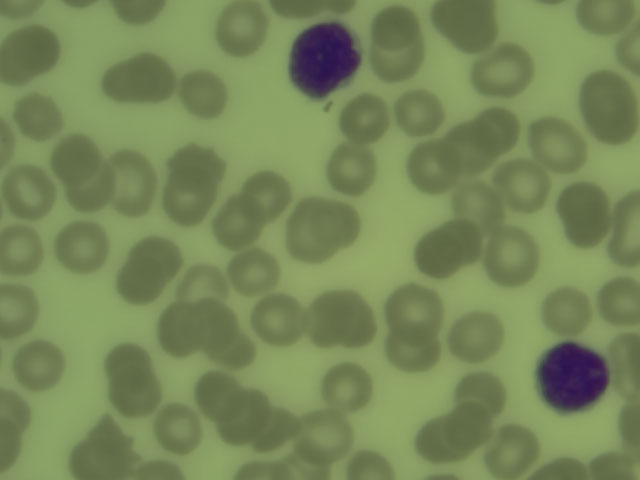RBC: (382, 284, 449, 335), (294, 404, 352, 461), (325, 142, 381, 200), (497, 160, 554, 216), (532, 118, 588, 174), (559, 187, 605, 253), (316, 361, 380, 408), (3, 30, 63, 80), (177, 68, 232, 122), (538, 285, 594, 338), (3, 169, 60, 221), (111, 153, 157, 216), (579, 99, 639, 147), (221, 389, 274, 443), (486, 229, 539, 283), (448, 313, 506, 362), (13, 340, 65, 394), (216, 5, 268, 59), (373, 29, 427, 81), (388, 323, 439, 378), (112, 259, 170, 307), (413, 414, 467, 465), (416, 224, 465, 280), (253, 293, 305, 345), (488, 427, 543, 476), (227, 248, 281, 297), (476, 46, 531, 94), (216, 202, 268, 251), (406, 140, 455, 192), (449, 182, 501, 231), (195, 305, 242, 359), (100, 342, 159, 385), (441, 402, 494, 449), (54, 132, 108, 178), (337, 291, 381, 347), (316, 201, 365, 251), (57, 224, 108, 272), (307, 287, 347, 348), (129, 233, 184, 277), (130, 52, 178, 102), (474, 109, 522, 159), (3, 226, 49, 277), (443, 124, 494, 168), (582, 70, 630, 116), (578, 1, 637, 38), (457, 371, 504, 417), (178, 262, 227, 306), (601, 274, 640, 329), (397, 92, 443, 138), (68, 166, 116, 210), (157, 403, 201, 451), (242, 172, 290, 216), (170, 148, 224, 187), (291, 205, 326, 264), (450, 14, 499, 56), (168, 180, 216, 222), (192, 372, 240, 414), (613, 194, 640, 268), (1, 287, 40, 338), (108, 384, 169, 416), (17, 99, 68, 137), (253, 407, 295, 452), (343, 96, 387, 138), (159, 311, 200, 356), (72, 435, 113, 480), (374, 7, 419, 48), (94, 421, 135, 465), (1, 389, 37, 438), (430, 1, 497, 27), (274, 453, 330, 480), (590, 450, 640, 480), (103, 61, 138, 102), (617, 336, 640, 396), (113, 1, 167, 25), (614, 405, 640, 445), (533, 462, 589, 480), (1, 2, 43, 21)
WBC: (284, 18, 367, 107), (527, 339, 615, 416)
